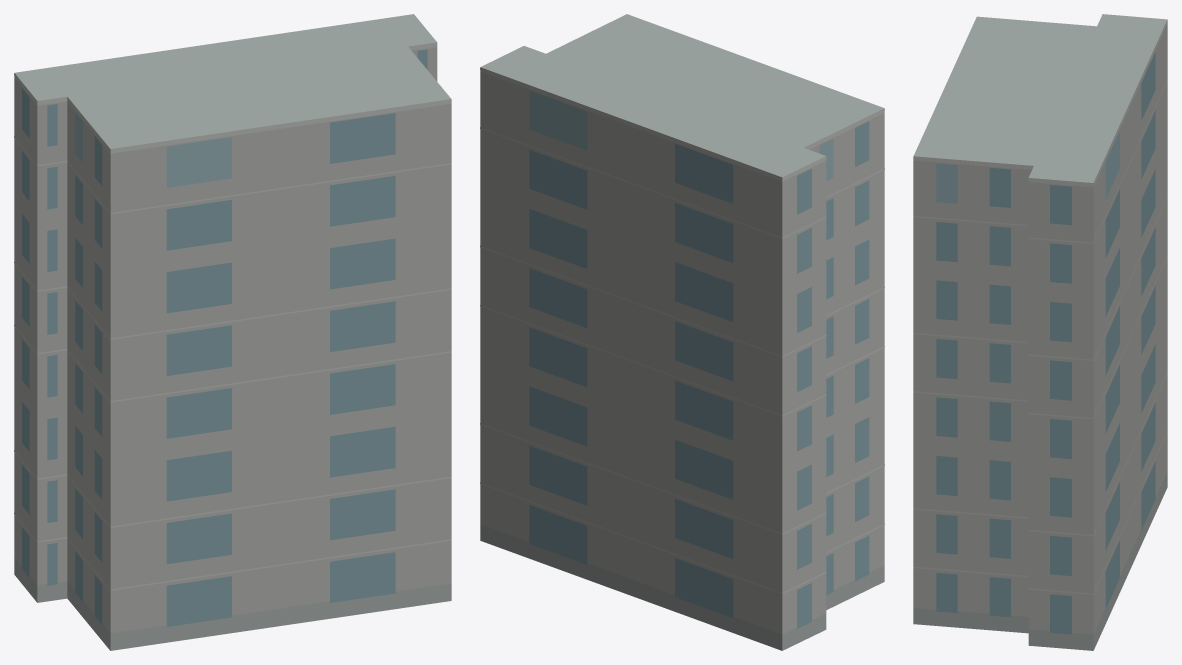
The model's file is survey-upis-32967712.glb.
3 renders of one model, left to right at view 1: azimuth 30°, elevation 25°; view 2: azimuth 150°, elevation 25°; view 3: azimuth 270°, elevation 25°, orthographic. The views are drawn at different scales.
Visible parts, largest first — view 1: survey-upis-32967712.tmp; view 2: survey-upis-32967712.tmp; view 3: survey-upis-32967712.tmp.
Part boxes in pixels (bbox=[...]): survey-upis-32967712.tmp: bbox=[14, 14, 451, 650]; survey-upis-32967712.tmp: bbox=[480, 14, 884, 650]; survey-upis-32967712.tmp: bbox=[913, 14, 1167, 650].
Size of the model in its own units: 20.18 by 26 by 12.83.
